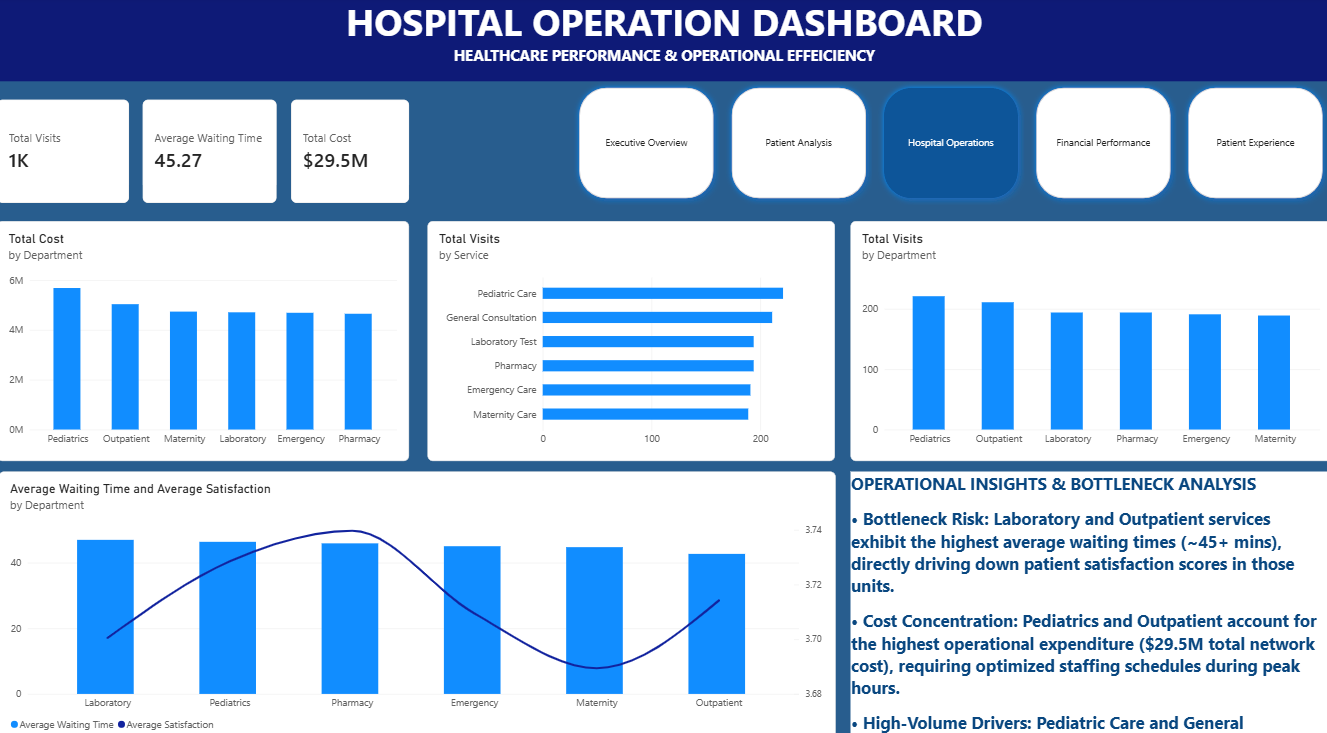

Layout of this report page (visuals, bound fields, positions):
{"tool":"powerbi","page":{"name":"Hospital Operations","canvas":[1920,1080],"ordinal":2},"visuals":[{"type":"textbox","box":[0,0,1919.3,122.7],"z":0},{"type":"cardVisual","fields":{"Data":["_Measure.Total Visits"]},"box":[0,149.9,190.8,149.9],"z":1000},{"type":"cardVisual","fields":{"Data":["_Measure.Average Waiting Time"]},"box":[209,149.9,193.1,149.9],"z":2000},{"type":"cardVisual","fields":{"Data":["_Measure.Total Cost"]},"box":[422.5,149.9,170.3,149.9],"z":3000},{"type":"clusteredColumnChart","fields":{"Category":["Patient_Visits.Department"],"Y":["_Measure.Total Cost"]},"box":[0,322.5,592.8,345.2],"z":4000},{"type":"lineStackedColumnComboChart","fields":{"Category":["Patient_Visits.Department"],"Y":["_Measure.Average Waiting Time"],"Y2":["_Measure.Average Satisfaction"]},"box":[2.3,683.7,1203.8,395.2],"z":5000},{"type":"clusteredBarChart","fields":{"Category":["Patient_Visits.Service"],"Y":["_Measure.Total Visits"]},"box":[620.1,322.5,586,345.2],"z":6000},{"type":"clusteredColumnChart","fields":{"Category":["Patient_Visits.Department"],"Y":["_Measure.Total Visits"]},"box":[1226.5,322.5,692.7,345.2],"z":7000},{"type":"textbox","box":[1227,684,693,395],"z":8000},{"type":"pageNavigator","box":[829,122.7,1090.2,177.2],"z":9000}]}

Visuals, with their boxes in screenshot pixels (x1, y1, x2, y2), scaled from the page's 1920x1080 canvas onto the 1327x733 screenshot:
textbox: Rect(0, 0, 1326, 83)
cardVisual - _Measure.Total Visits: Rect(0, 102, 132, 203)
cardVisual - _Measure.Average Waiting Time: Rect(144, 102, 278, 203)
cardVisual - _Measure.Total Cost: Rect(292, 102, 410, 203)
clusteredColumnChart - Patient_Visits.Department x _Measure.Total Cost: Rect(0, 219, 410, 453)
lineStackedColumnComboChart - Patient_Visits.Department x _Measure.Average Waiting Time: Rect(2, 464, 834, 732)
clusteredBarChart - Patient_Visits.Service x _Measure.Total Visits: Rect(429, 219, 834, 453)
clusteredColumnChart - Patient_Visits.Department x _Measure.Total Visits: Rect(848, 219, 1326, 453)
textbox: Rect(848, 464, 1326, 732)
pageNavigator: Rect(573, 83, 1326, 204)
